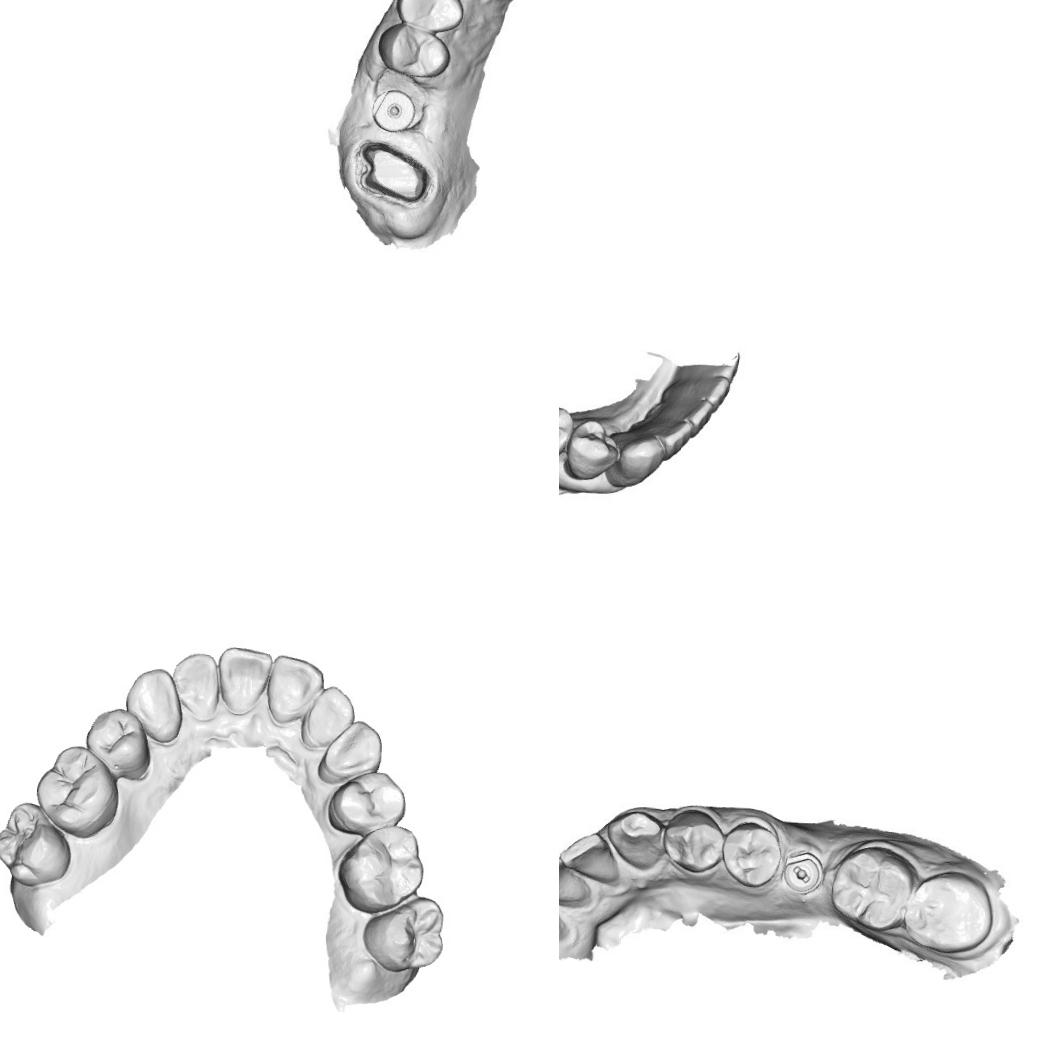canine: (122, 666, 186, 745), (319, 718, 384, 782), (609, 808, 667, 878), (608, 428, 662, 490)
crown: (355, 142, 431, 206)
implant: (367, 87, 420, 136)
implant_minus: (783, 844, 829, 902)
incisor: (215, 644, 271, 720), (267, 652, 325, 724), (170, 648, 220, 722), (305, 684, 356, 748), (566, 833, 622, 886), (626, 416, 695, 459), (662, 372, 730, 406), (559, 855, 598, 914), (652, 396, 712, 431)
molar: (334, 821, 426, 917), (33, 742, 122, 841), (360, 892, 447, 976), (908, 870, 994, 948), (831, 842, 908, 926), (0, 798, 72, 886)
premolar: (326, 768, 407, 838), (84, 706, 153, 780), (664, 804, 728, 873), (376, 23, 452, 81), (726, 818, 786, 886), (562, 420, 623, 481), (395, 0, 467, 33), (559, 396, 575, 470)
